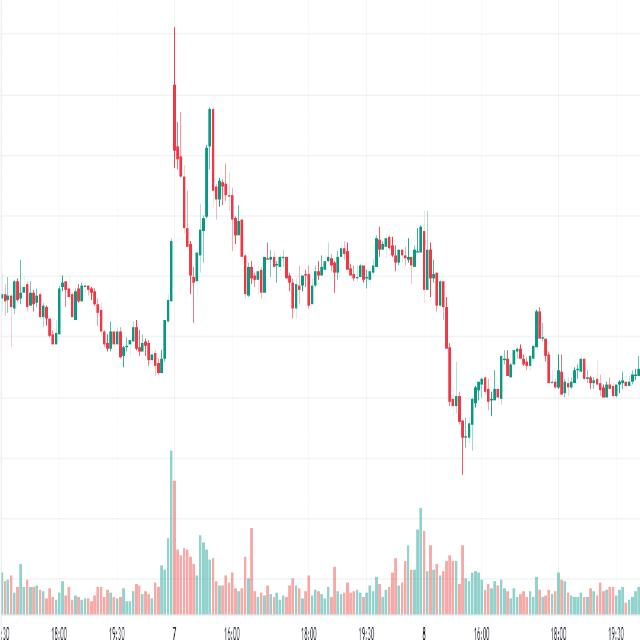rectangle: (227, 172, 454, 371)
